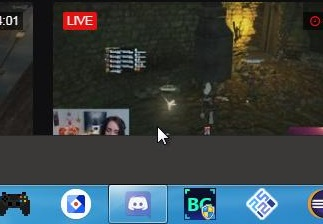cursor: (153, 123, 172, 148)
